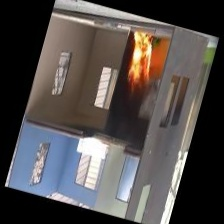fire: (118, 24, 168, 90)
